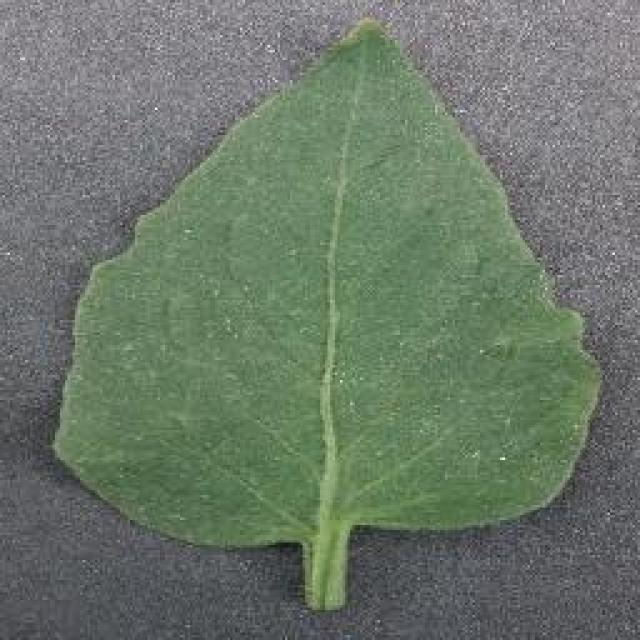Tomato___healthy: (47, 14, 608, 619)
